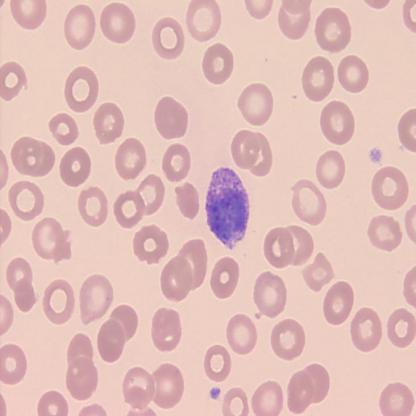Basophil: (204, 163, 252, 254)
